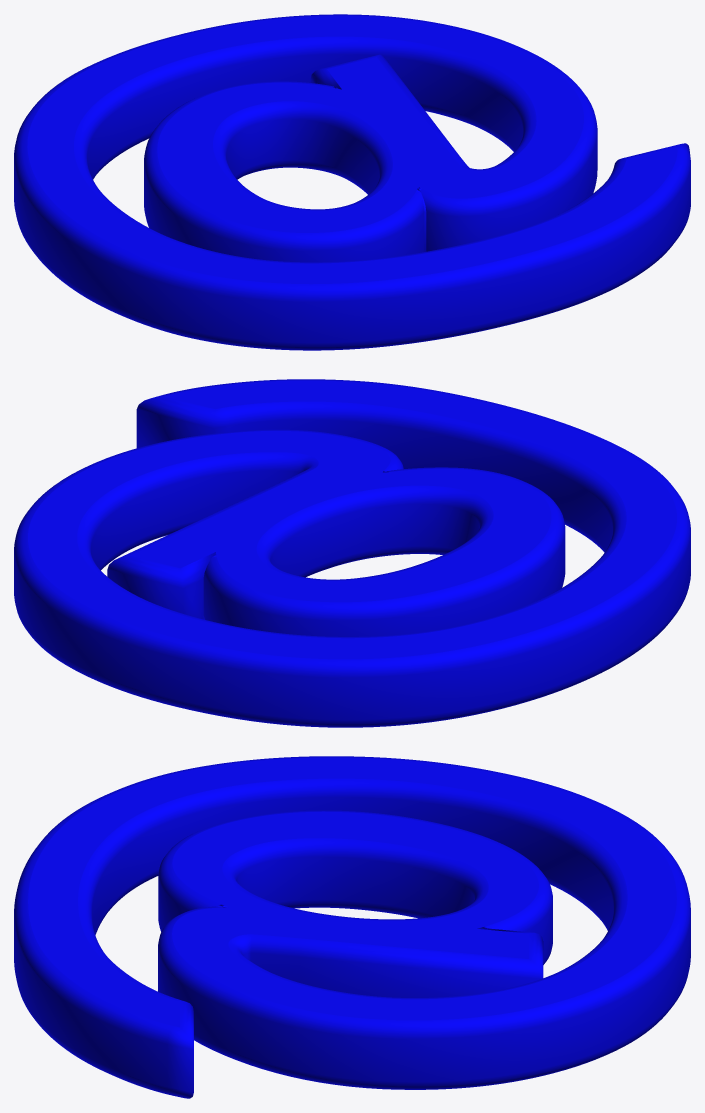
The picture shows the model from 3 angles, top to bottom: view 1: azimuth 30°, elevation 25°; view 2: azimuth 150°, elevation 25°; view 3: azimuth 270°, elevation 25°; orthographic projection. The views are drawn at different scales.
Visible parts, largest first — view 1: 64; view 2: 64; view 3: 64.
Boxes of the visible parts, left/top/right/bottom form: 64: left=14, top=14, right=690, bottom=350; 64: left=14, top=379, right=690, bottom=727; 64: left=14, top=756, right=690, bottom=1098.
Bounding box in the file's own units: 1.44 × 0.16 × 1.44.
